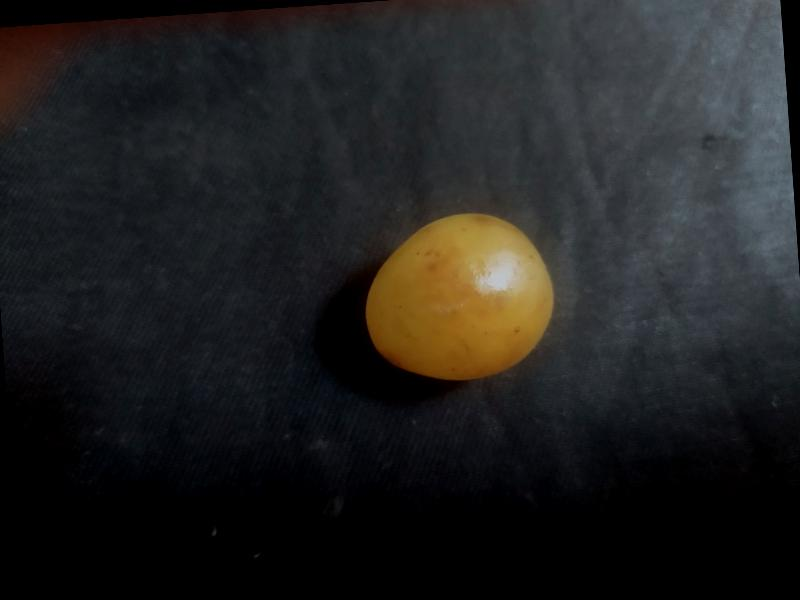Grape Rotten: (355, 208, 562, 388)
